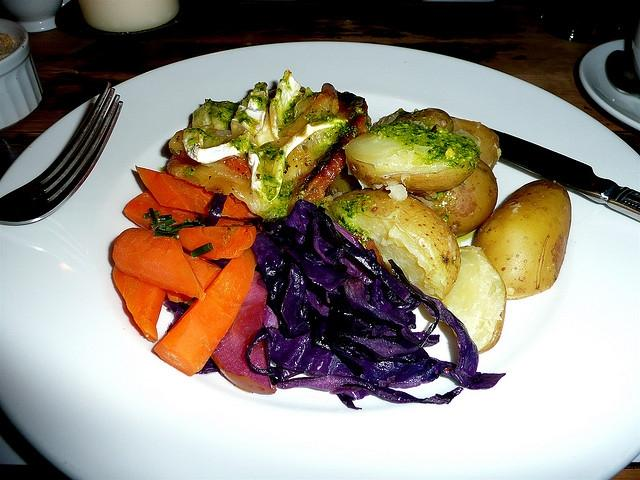carrot: (154, 248, 257, 376), (112, 228, 206, 302), (136, 164, 260, 220), (123, 189, 244, 230), (112, 264, 168, 343), (178, 224, 256, 260), (182, 250, 222, 292)
potato: (330, 187, 461, 300), (472, 179, 572, 300), (342, 133, 479, 193), (442, 244, 507, 354), (432, 158, 498, 237), (452, 118, 502, 171), (388, 108, 454, 132), (432, 123, 438, 134)
